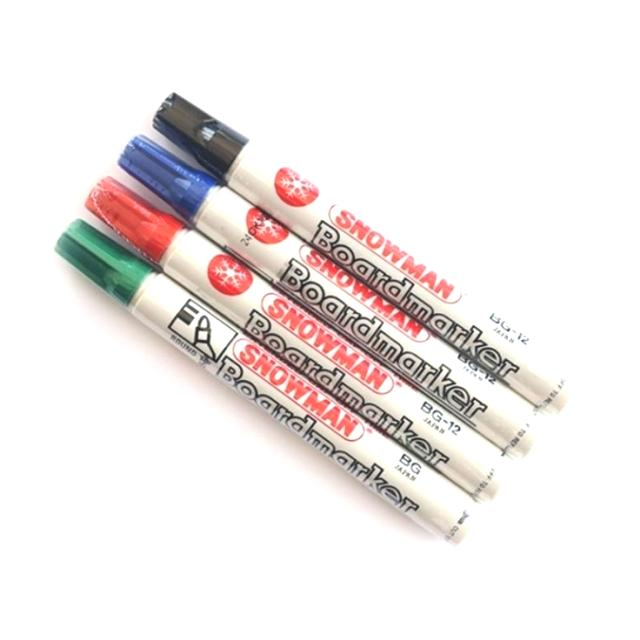zat_kimia: (42, 136, 592, 521), (109, 127, 337, 314)
